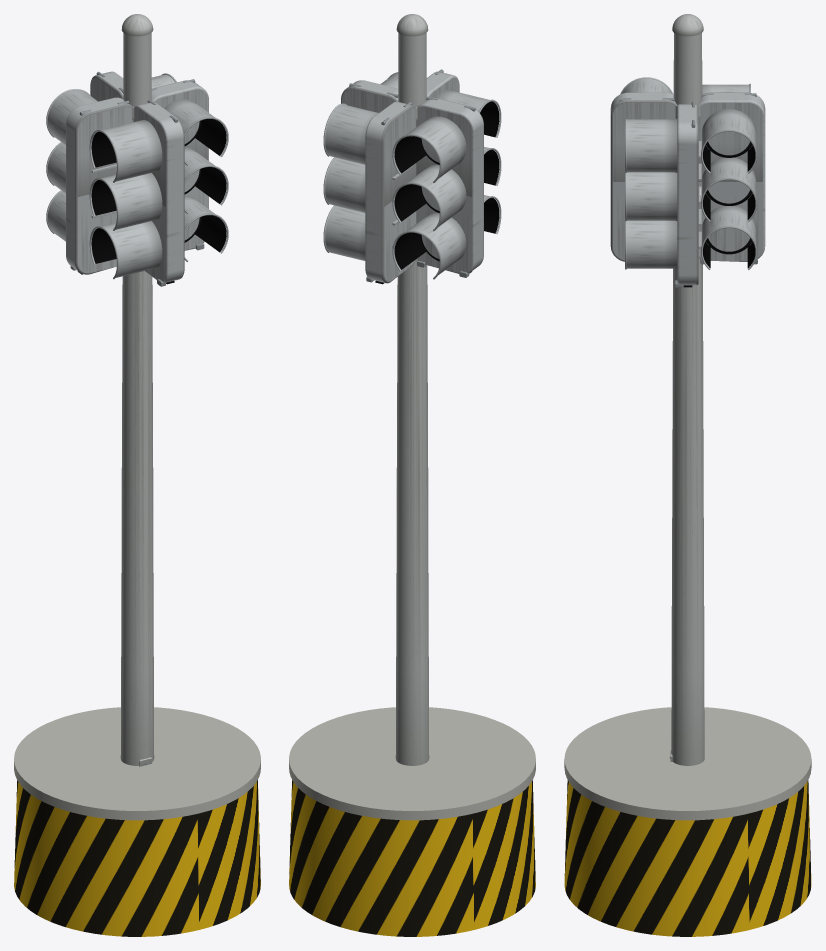
3 renders of one model, left to right at view 1: azimuth 30°, elevation 25°; view 2: azimuth 150°, elevation 25°; view 3: azimuth 270°, elevation 25°, orthographic.
Visible parts, largest first — view 1: jp-veh-center-pole, object 108, object 109, object 89, object 106, object 96, object 103, object 63, object 107, object 20, object 13, object 27 (+6 smaller); view 2: jp-veh-center-pole, object 107, object 108, object 37, object 44, object 51, object 63, object 77, object 70, object 106, object 65, object 79 (+4 smaller); view 3: jp-veh-center-pole, object 107, object 106, object 109, object 11, object 18, object 25, object 37, object 51, object 44, object 89.
Boxes of the visible parts, box(x1,y1,x2,y2) form: jp-veh-center-pole: box(14, 14, 260, 936); object 108: box(66, 97, 133, 274); object 109: box(133, 101, 184, 282); object 89: box(101, 120, 162, 181); object 106: box(151, 80, 208, 250); object 96: box(101, 173, 162, 229); object 103: box(101, 221, 162, 277); object 63: box(47, 90, 97, 144); object 107: box(90, 71, 123, 101); object 20: box(195, 167, 226, 203); object 13: box(195, 119, 226, 155); object 27: box(195, 215, 226, 252); jp-veh-center-pole: box(289, 14, 535, 936); object 107: box(365, 101, 416, 283); object 108: box(416, 97, 483, 273); object 37: box(325, 104, 378, 164); object 44: box(325, 157, 365, 212); object 51: box(325, 206, 365, 260); object 63: box(406, 116, 466, 178); object 77: box(406, 213, 466, 275); object 70: box(406, 164, 466, 226); object 106: box(341, 80, 398, 112); object 65: box(394, 136, 425, 173); object 79: box(394, 232, 425, 269); jp-veh-center-pole: box(564, 14, 811, 936); object 107: box(698, 92, 765, 261); object 106: box(677, 104, 698, 285); object 109: box(610, 92, 676, 261); object 11: box(626, 119, 677, 172); object 18: box(626, 172, 677, 220); object 25: box(626, 220, 677, 268); object 37: box(702, 109, 756, 147); object 51: box(702, 206, 756, 244); object 44: box(702, 157, 756, 195); object 89: box(622, 78, 671, 93).
Size of the model in its own units: 1.44 by 5.59 by 1.44.
33 materials, 3 textured.
